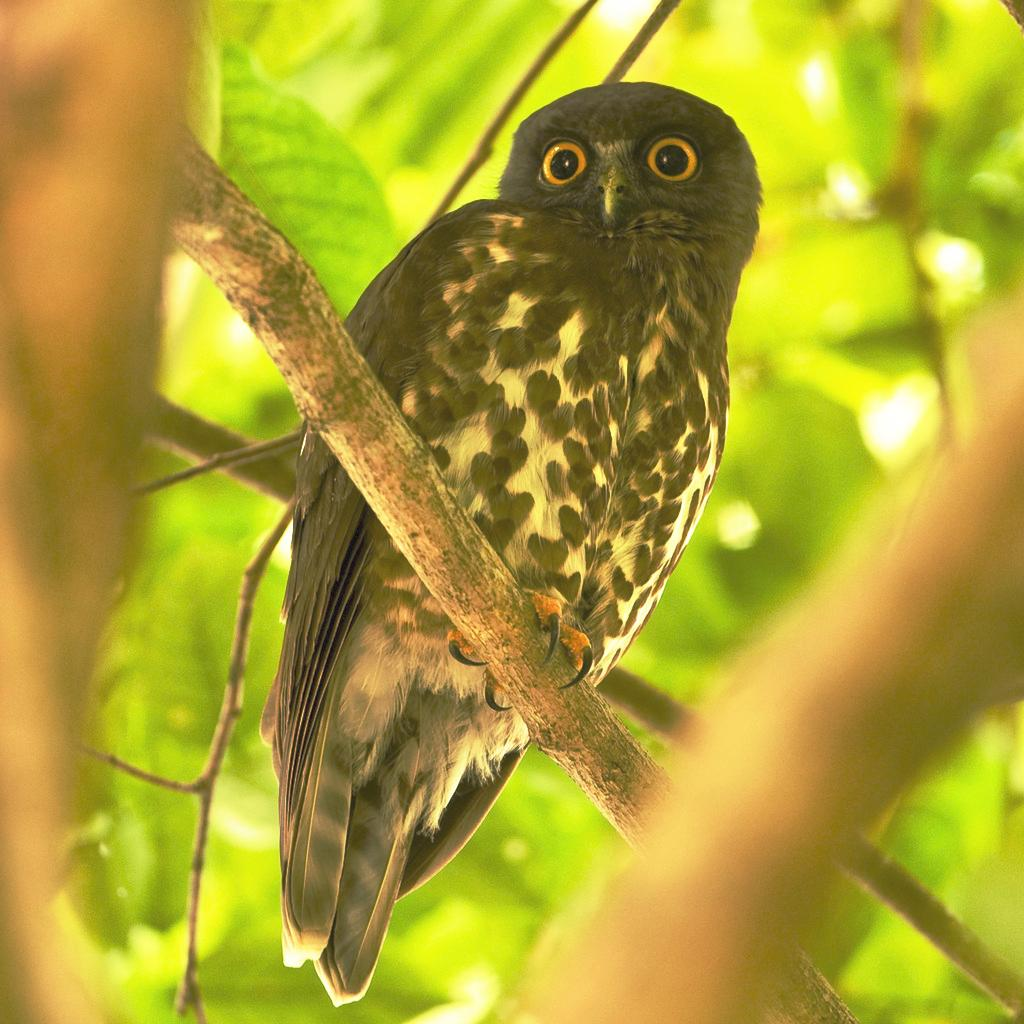Owl: (258, 74, 758, 1004)
